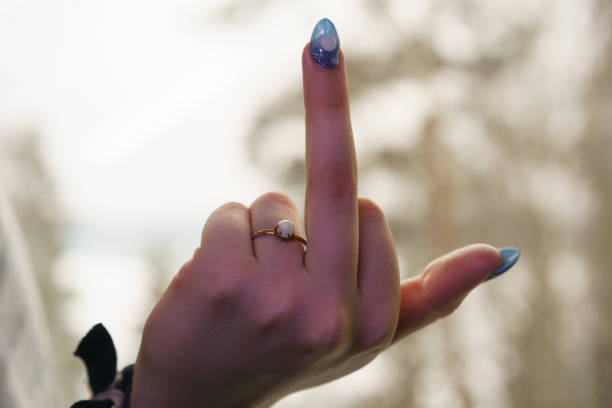insulting_gesture: (136, 18, 520, 407)
